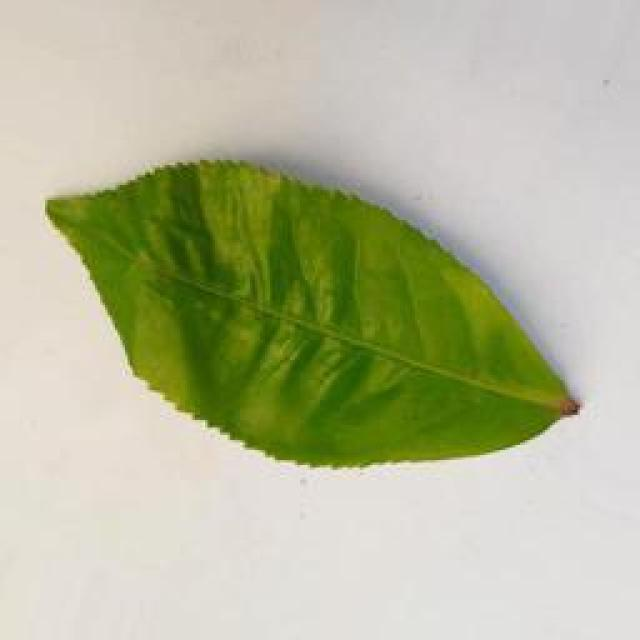Healthy: (34, 162, 586, 470)
